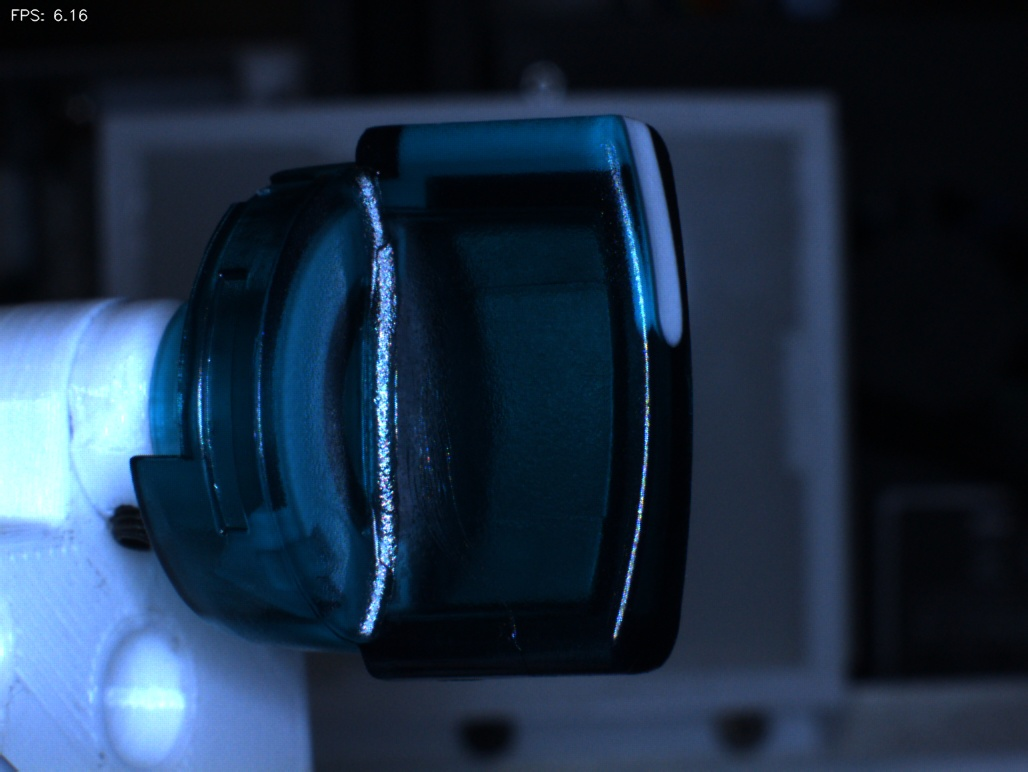Givrage: (404, 370, 531, 662)
